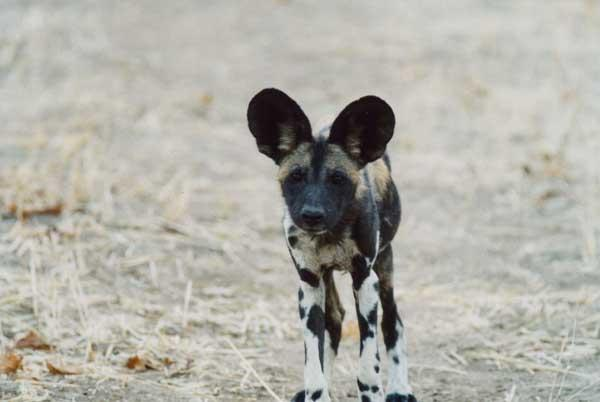African_hunting_dog: (246, 87, 416, 400)
